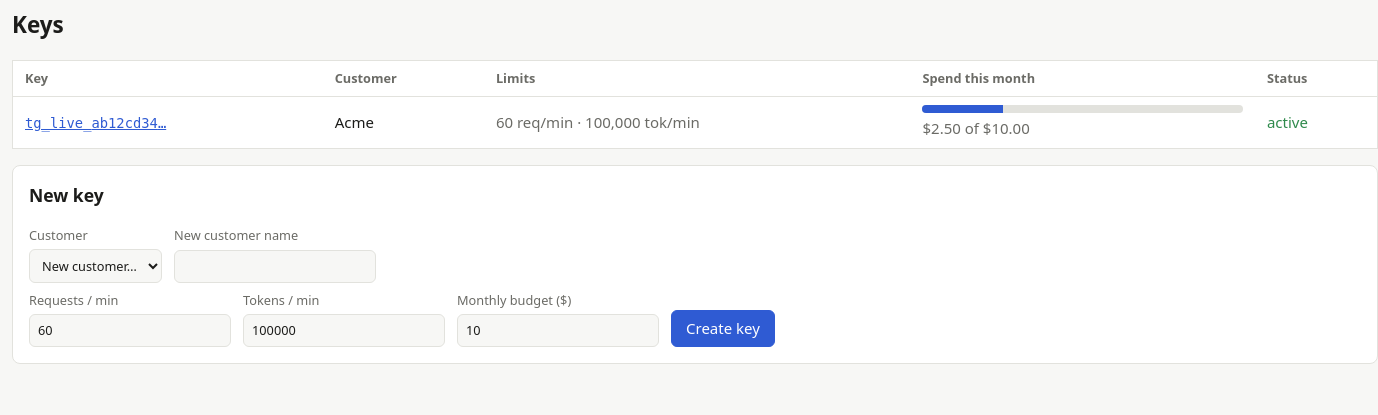
Test: KeysPage › refuses a budget that isn't a dollar amount
The width and height of the screenshot is (1378, 415).
Expected: the text "tg_live_ab12cd34…" is shown, [25,115,166,131]
Replace the text in the field labelled "Monthly budget ($)" with "ten": (558, 330) [457,314,659,347]
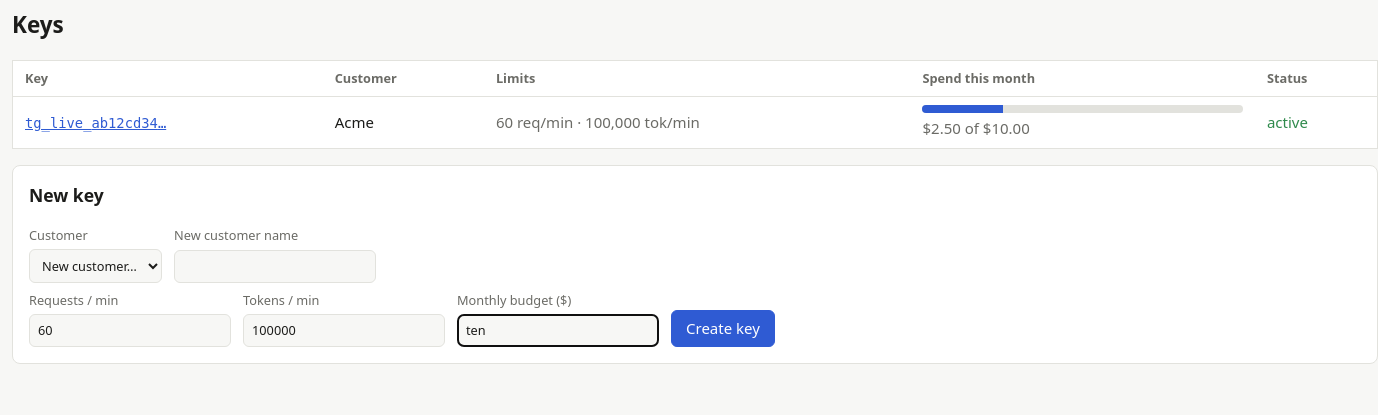
Click the button "Create key": (723, 329) [671,310,775,347]
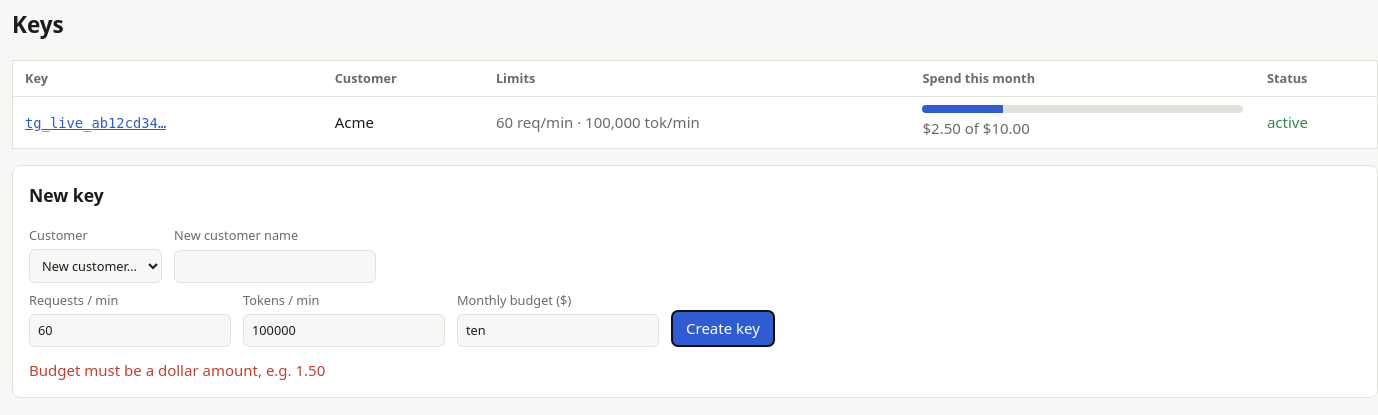
Expected: the message shows "dollar amount", [29,360,325,380]
